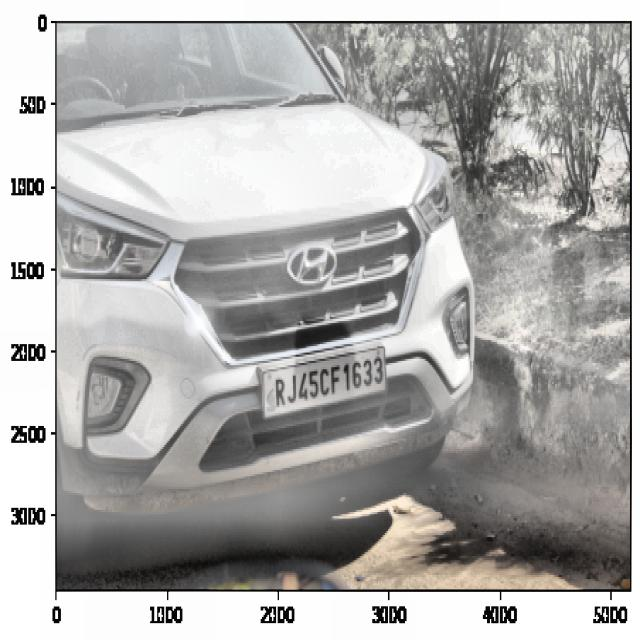license_plate: (273, 353, 387, 413)
